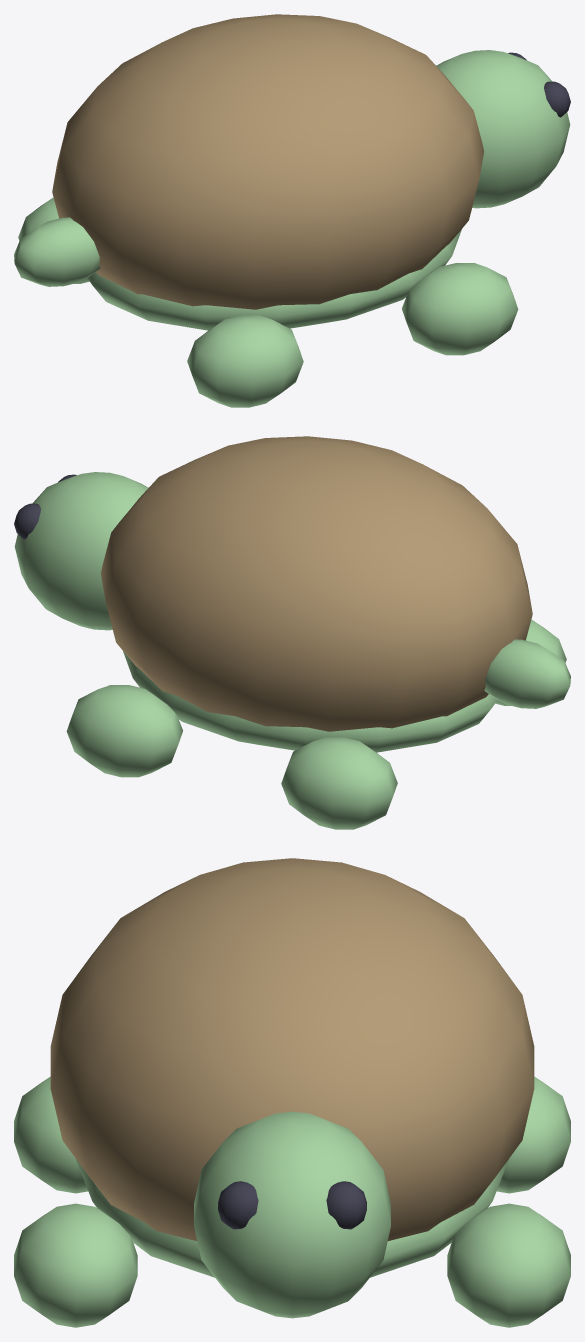
File: turtle.glb
3 views of the same model, one above another, from view 1: azimuth 30°, elevation 25°; view 2: azimuth 150°, elevation 25°; view 3: azimuth 270°, elevation 25° (orthographic). The views are drawn at different scales.
Parts seen in each view (by area): view 1: Shell, Head, LegBackLeft, LegFrontLeft, Underside, Tail, LegBackRight, EyeLeft; view 2: Shell, Head, LegBackRight, LegFrontRight, Underside, Tail, LegBackLeft, EyeRight; view 3: Shell, Head, LegFrontLeft, LegFrontRight, Underside, LegBackLeft, LegBackRight, EyeLeft, EyeRight.
Boxes of the visible parts, x1,y1,x2,y2 form: Shell: (52,14,483,309); Head: (436,50,570,208); LegBackLeft: (187,315,303,407); LegFrontLeft: (402,263,518,355); Underside: (87,229,461,330); Tail: (14,217,100,286); LegBackRight: (18,197,89,283); EyeLeft: (544,81,570,117); Shell: (101,436,532,731); Head: (14,472,148,630); LegBackRight: (281,737,397,829); LegFrontRight: (66,685,182,777); Underside: (123,651,497,752); Tail: (484,639,570,708); LegBackLeft: (495,619,566,705); EyeRight: (14,503,40,539); Shell: (50,858,534,1240); Head: (194,1111,390,1318); LegFrontLeft: (14,1203,137,1327); LegFrontRight: (447,1203,570,1327); Underside: (76,1159,508,1277); LegBackLeft: (14,1076,87,1193); LegBackRight: (497,1076,570,1193); EyeLeft: (218,1181,258,1229); EyeRight: (326,1181,366,1229).
Bounding box in the file's own units: 1.12 × 0.54 × 0.7712.
